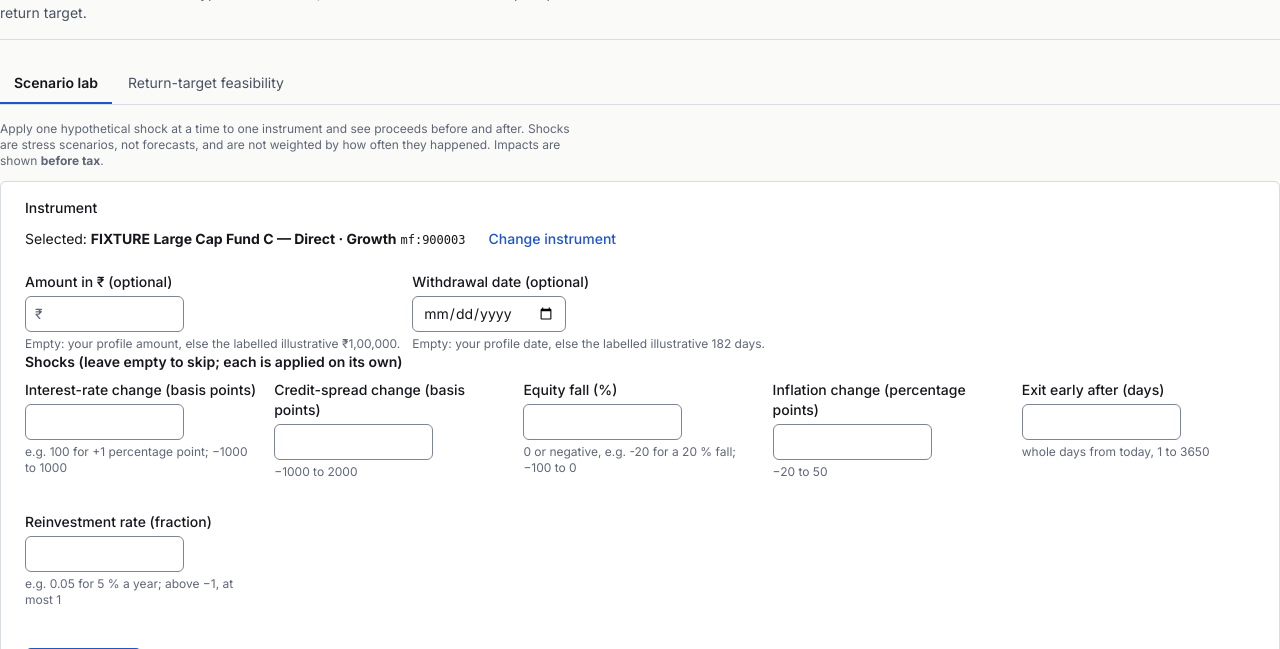
Test: Scenario lab › sends the shocks as decimal strings with the exact field names, and a zero shock shows the API's zero impact
Type "0" into the field labelled "Equity fall (%)". click: (603, 422)
box: [523,404,682,440]
(page scrolled)
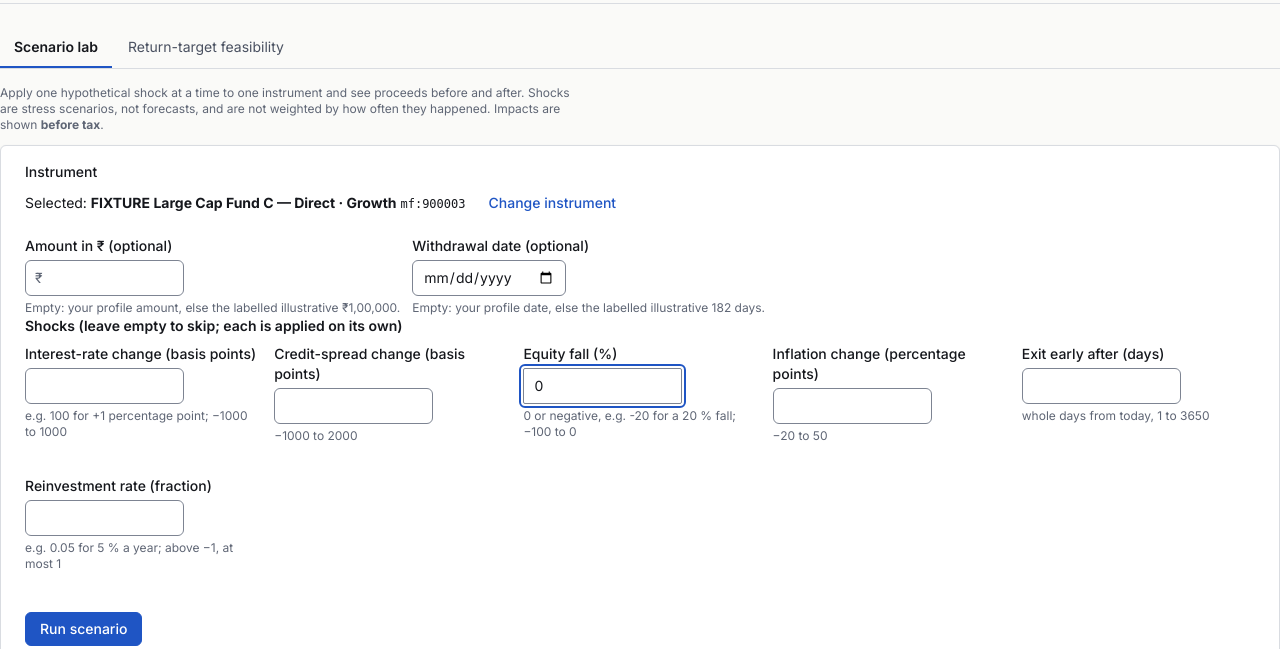
Click the button "Run scenario". click: (84, 629)
box: [25,612,142,646]
(page scrolled)
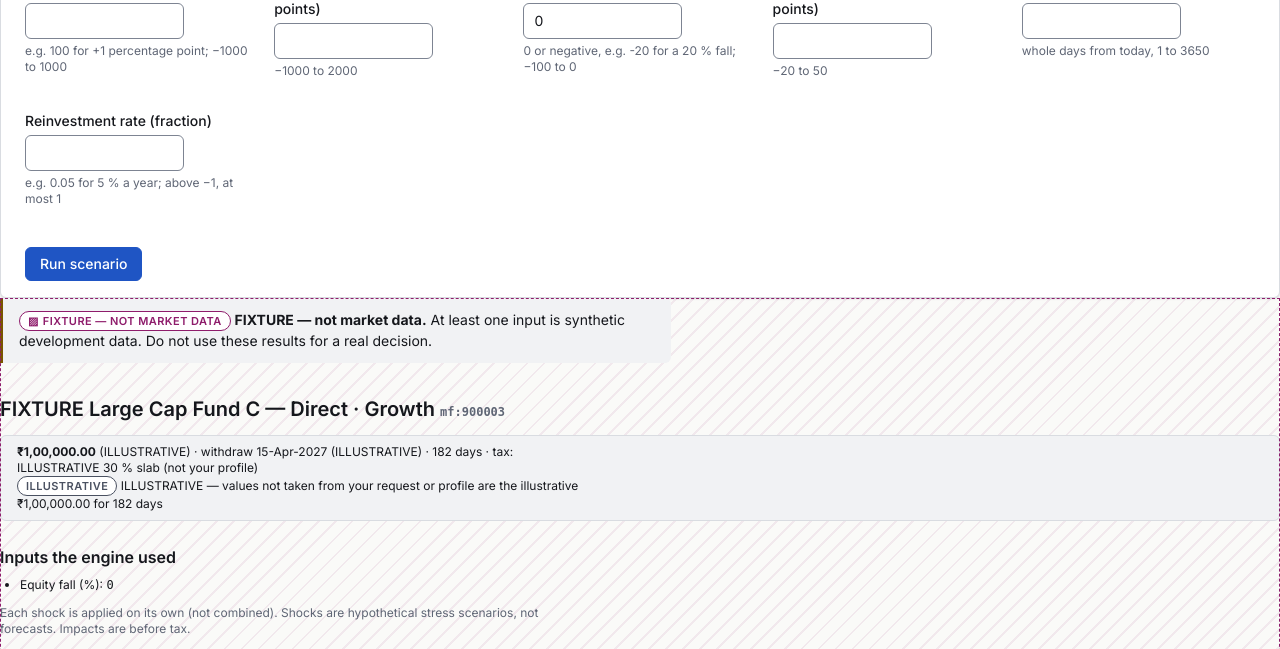
Result: the text "Impacts are before tax." is shown at [0,605,538,636]
Result: the list item "Equity fall (%): 0" is shown at [20,577,114,592]
Result: the text "FIXTURE — not market data." is shown at [235,311,427,328]
